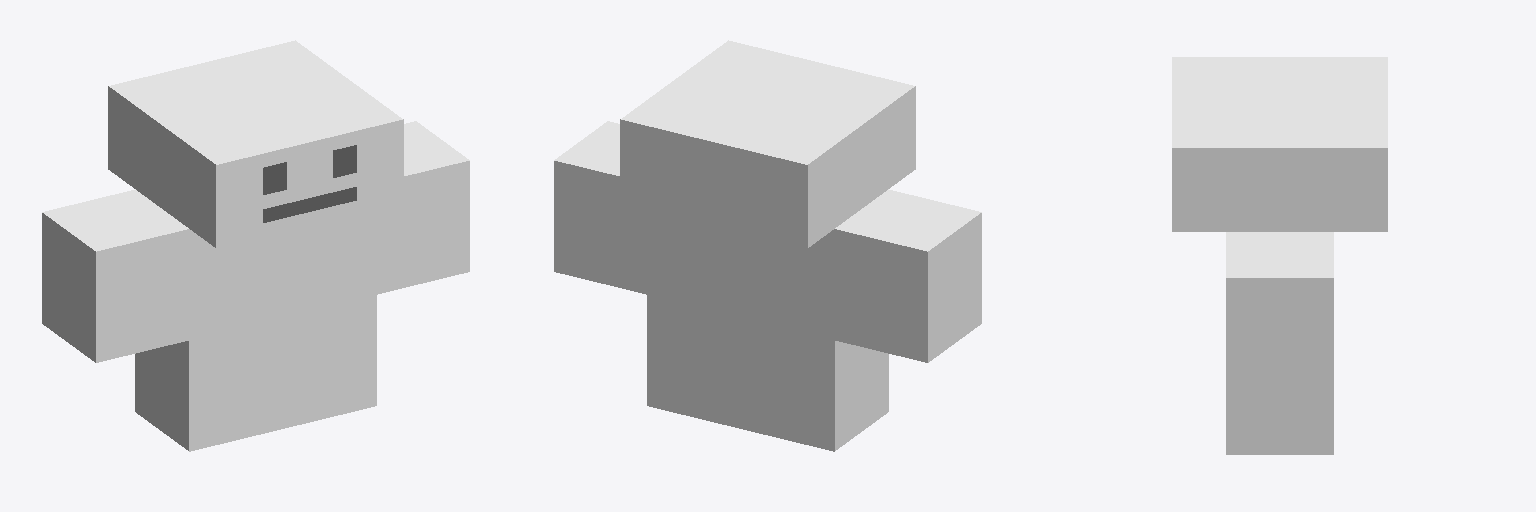
3 views of the same model, side by side, from view 1: azimuth 30°, elevation 25°; view 2: azimuth 150°, elevation 25°; view 3: azimuth 270°, elevation 25° (orthographic).
Visible parts, largest first — view 1: cube.004, cube.003, cube.001, cube, cube.002, cube.000; view 2: cube.004, cube.003, cube.001, cube, cube.002, cube.000; view 3: cube.004, cube.002, cube.000.
Boxes of the visible parts, box(x1,y1,x2,y2) form: cube.004: box(108, 40, 403, 248); cube.003: box(42, 189, 188, 362); cube.001: box(189, 210, 376, 339); cube: box(135, 318, 282, 451); cube.002: box(377, 121, 469, 294); cube.000: box(283, 295, 376, 428); cube.004: box(620, 40, 915, 248); cube.003: box(835, 189, 981, 362); cube.001: box(647, 210, 834, 339); cube: box(741, 318, 888, 451); cube.002: box(554, 121, 646, 294); cube.000: box(647, 295, 740, 428); cube.004: box(1172, 57, 1387, 231); cube.002: box(1226, 232, 1333, 388); cube.000: box(1226, 389, 1333, 454).
Size of the model in its own units: 10.26 by 8.03 by 5.13.
Materials: 2 (1 with a texture image).